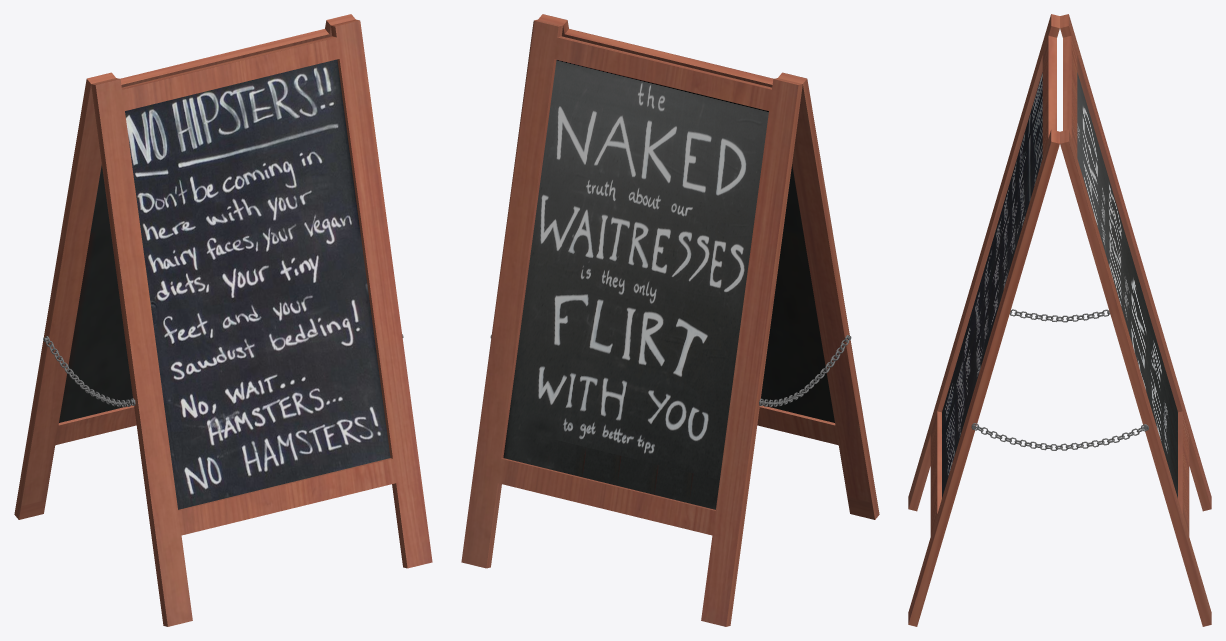
The model's file is FunnySign.fbx.
The picture shows the model from 3 angles, left to right: view 1: azimuth 30°, elevation 25°; view 2: azimuth 150°, elevation 25°; view 3: azimuth 270°, elevation 25°; orthographic projection.
Visible parts, largest first — view 1: Sign; view 2: Sign; view 3: Sign.
Part boxes in pixels (box(x1,y1,x2,y2)): Sign: box(14, 14, 432, 626); Sign: box(461, 14, 879, 626); Sign: box(908, 14, 1211, 626).
Bounding box in the file's own units: 69.99 × 120 × 68.13.
